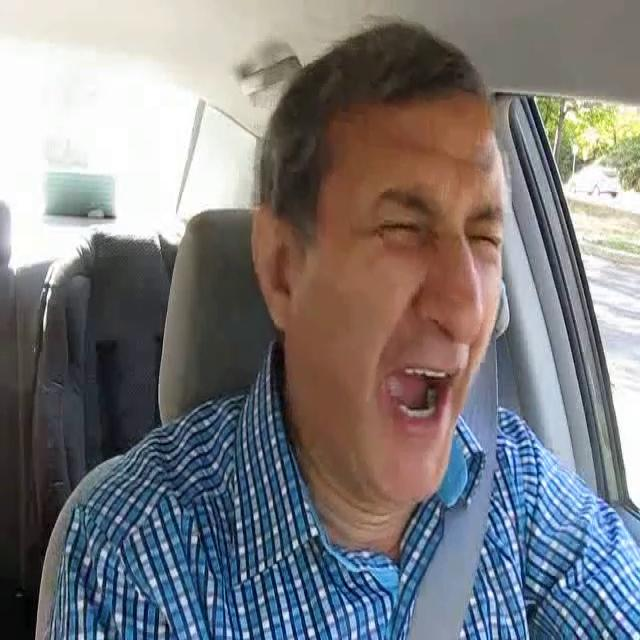yawn: (381, 358, 467, 443)
